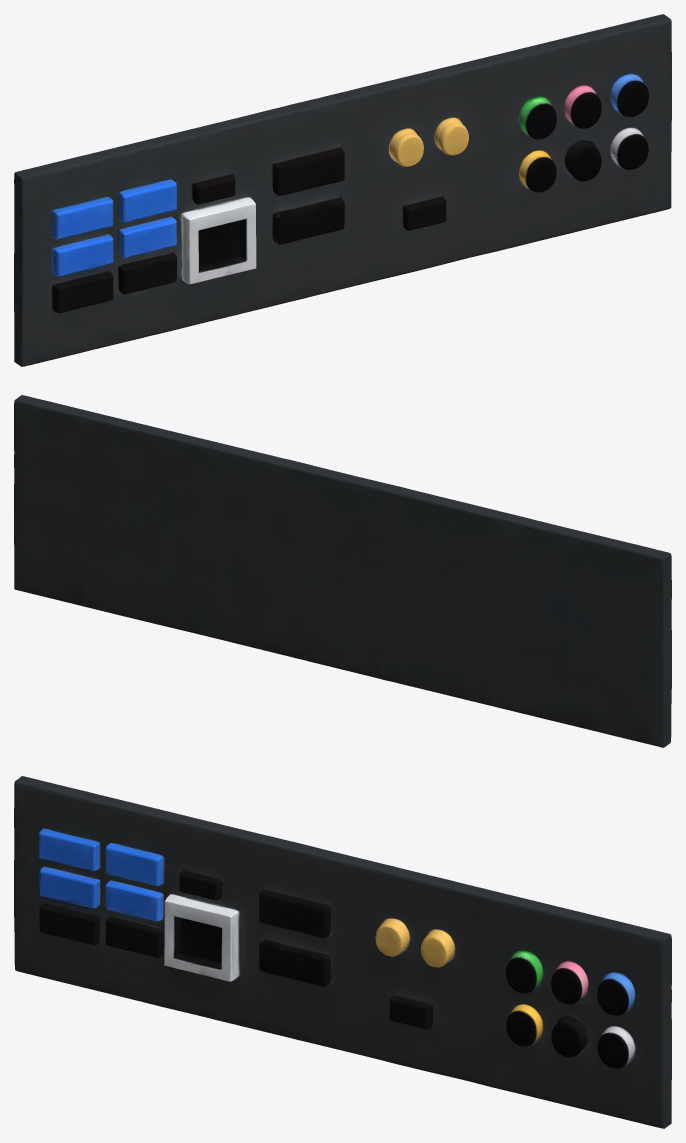
File: io_panel.fbx
3 renders of one model, top to bottom at view 1: azimuth 30°, elevation 25°; view 2: azimuth 150°, elevation 25°; view 3: azimuth 330°, elevation 25°, orthographic.
Visible parts, largest first — view 1: model; view 2: model; view 3: model.
Boxes of the visible parts, x1,y1,x2,y2 form: model: (14, 14, 671, 366); model: (14, 395, 671, 747); model: (14, 776, 671, 1128).
Size of the model in its own units: 190 by 53.03 by 8.81.
Materials: 1 (1 with a texture image).
